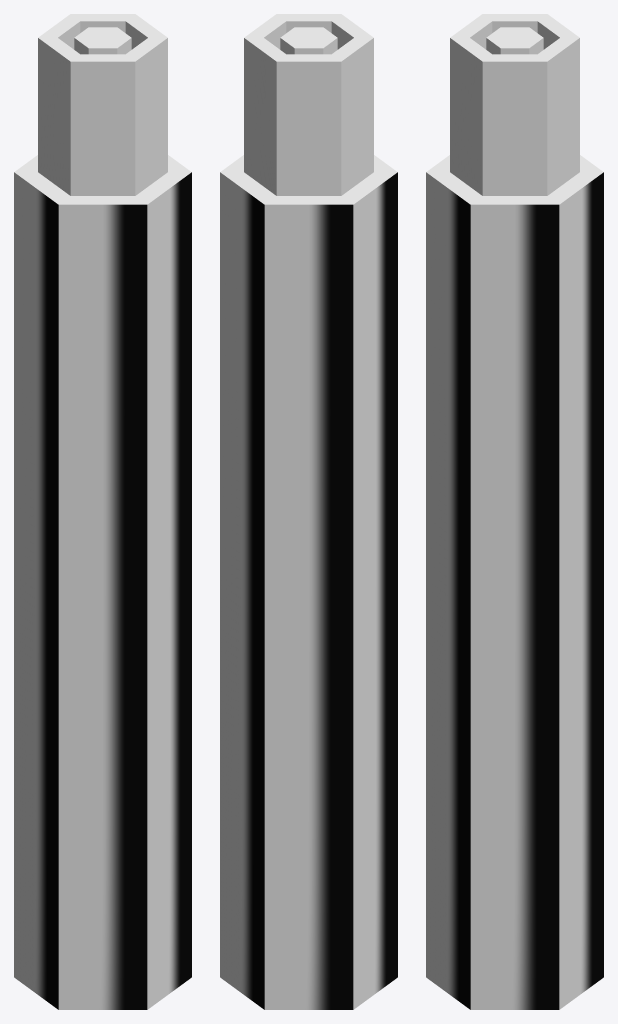
Rendered from pillar.fbx.
The picture shows the model from 3 angles, left to right: view 1: azimuth 30°, elevation 25°; view 2: azimuth 150°, elevation 25°; view 3: azimuth 270°, elevation 25°; orthographic projection.
Visible parts, largest first — view 1: Pillar; view 2: Pillar; view 3: Pillar.
Boxes of the visible parts, box(x1,y1,x2,y2) form: Pillar: box(14, 14, 191, 1009); Pillar: box(220, 14, 397, 1009); Pillar: box(426, 14, 603, 1009).
Bounding box in the file's own units: 0.433 × 2.92 × 0.5.
